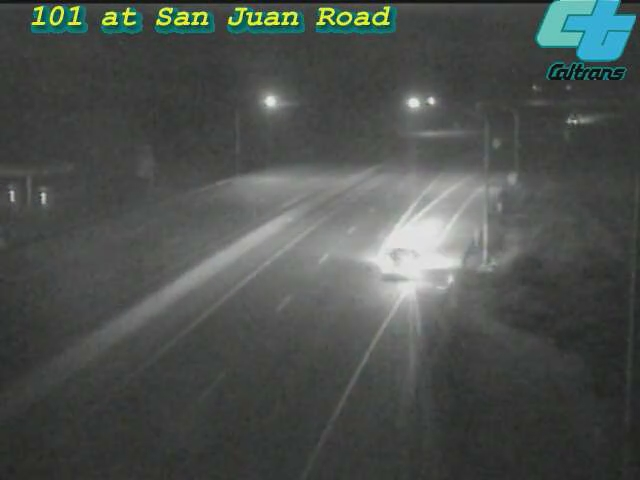vehicle: (360, 224, 440, 304), (550, 94, 600, 144)
